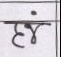anusvara: (31, 11, 36, 15)
